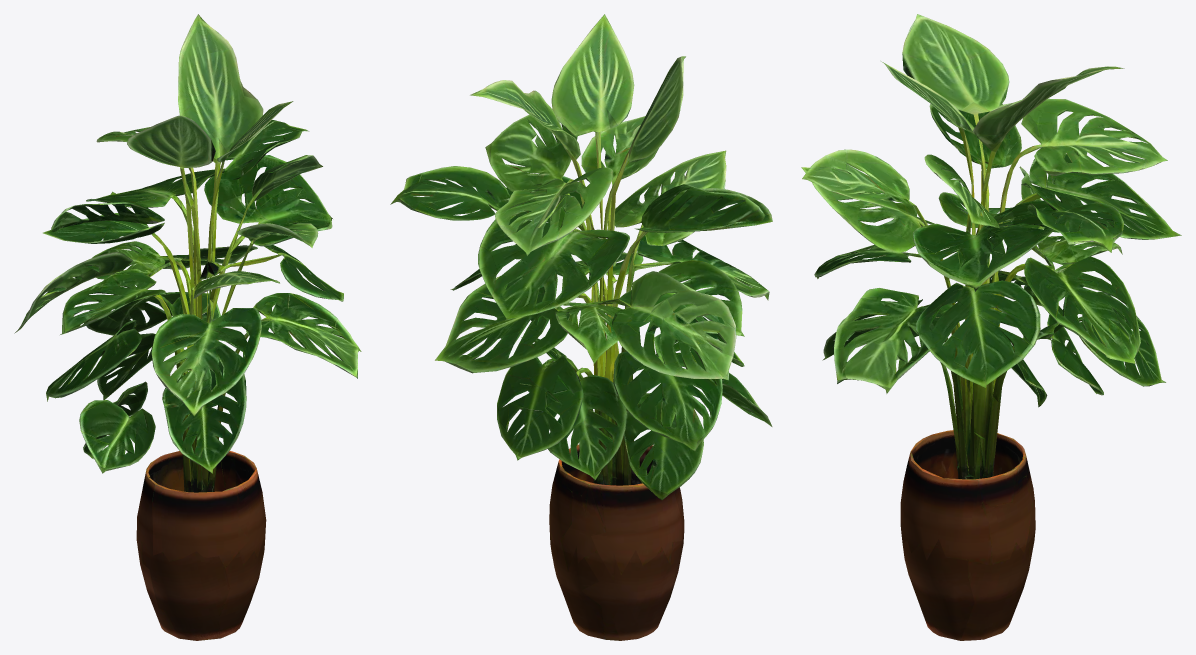
Rendered from plant_monstera.glb.
3 views of the same model, side by side, from view 1: azimuth 30°, elevation 25°; view 2: azimuth 150°, elevation 25°; view 3: azimuth 270°, elevation 25° (orthographic). The views are drawn at different scales.
Bounding box in the file's own units: 1.13 × 1.9 × 1.11.
1 material, 1 textured.
